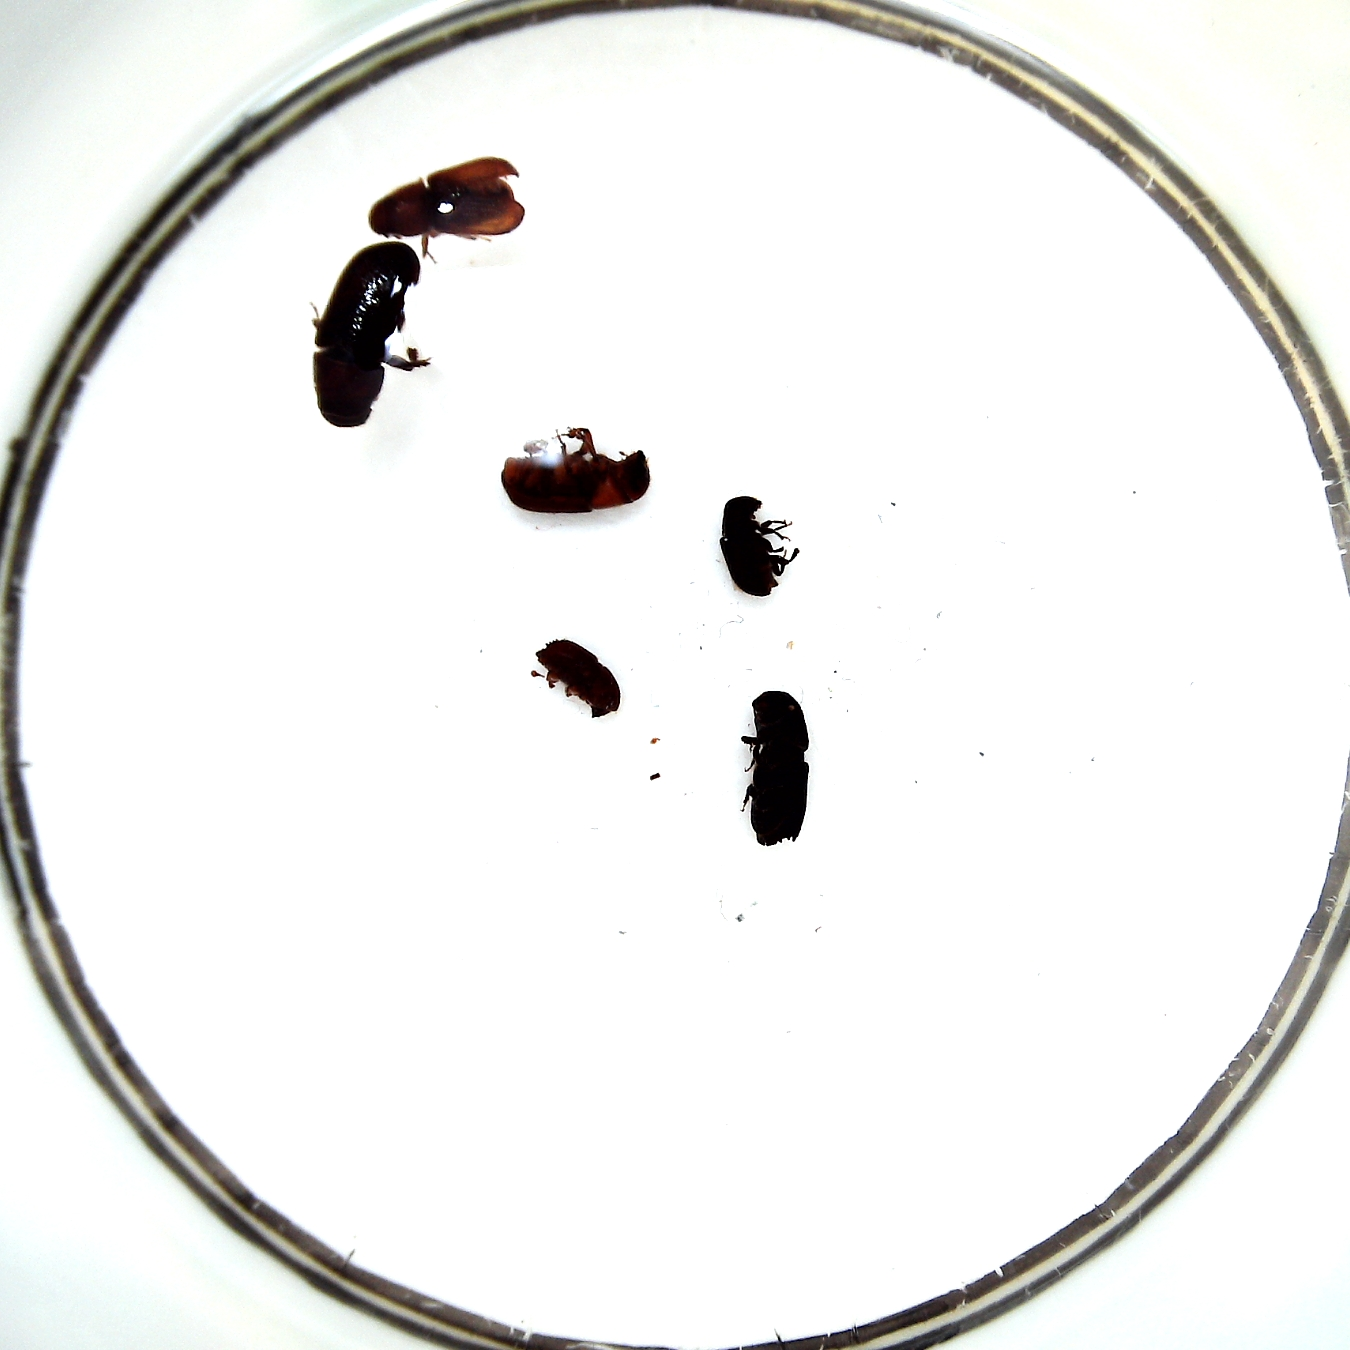Boerner: (741, 689, 809, 846)
Leconte: (312, 242, 422, 425), (368, 155, 525, 240), (502, 449, 652, 513)
armandi: (722, 496, 785, 596)
linnaeus: (537, 637, 621, 720)
